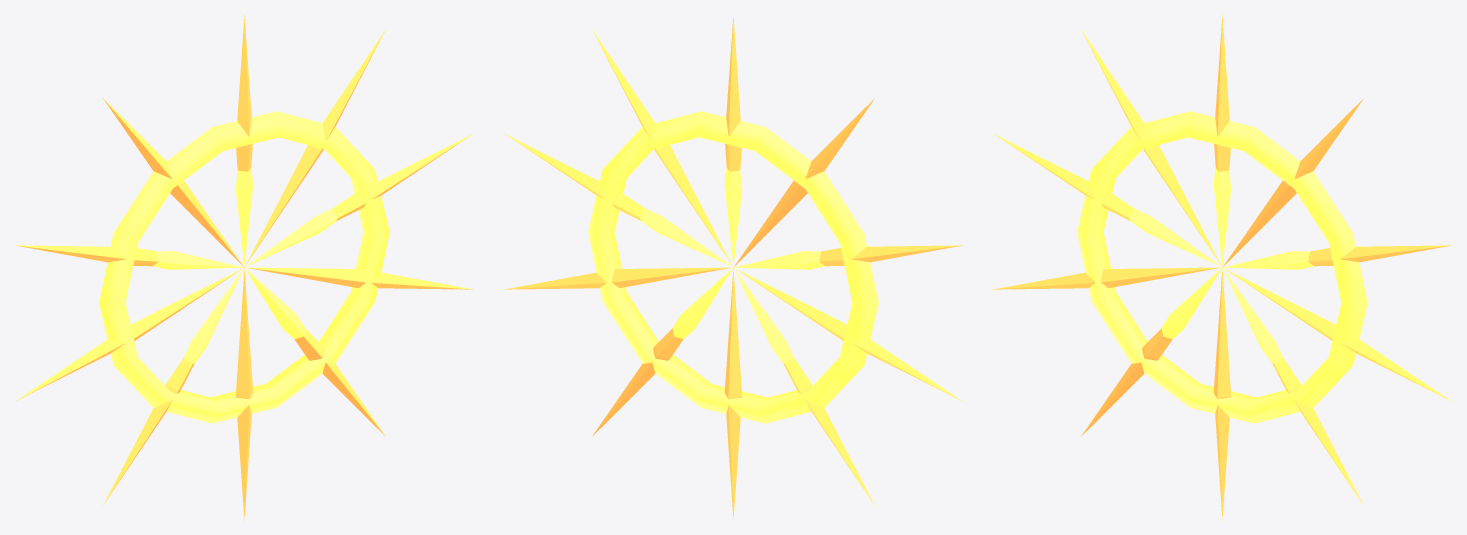
Rendered from fx_crit.glb.
3 renders of one model, left to right at view 1: azimuth 30°, elevation 25°; view 2: azimuth 150°, elevation 25°; view 3: azimuth 330°, elevation 25°, orthographic.
Visible parts, largest first — view 1: ring_critRing, rays_critSpark, rays2_critFlash; view 2: ring_critRing, rays_critSpark, rays2_critFlash; view 3: ring_critRing, rays_critSpark, rays2_critFlash.
Part boxes in pixels (bbox=[...]): ring_critRing: bbox=[99, 111, 389, 423]; rays_critSpark: bbox=[15, 14, 473, 520]; rays2_critFlash: bbox=[153, 168, 337, 363]; ring_critRing: bbox=[588, 111, 878, 423]; rays_critSpark: bbox=[504, 14, 962, 520]; rays2_critFlash: bbox=[640, 168, 824, 363]; ring_critRing: bbox=[1077, 111, 1367, 423]; rays_critSpark: bbox=[993, 14, 1451, 520]; rays2_critFlash: bbox=[1129, 168, 1313, 363].
Bounding box in the file's own units: 1.05 × 1.1 × 0.052.
